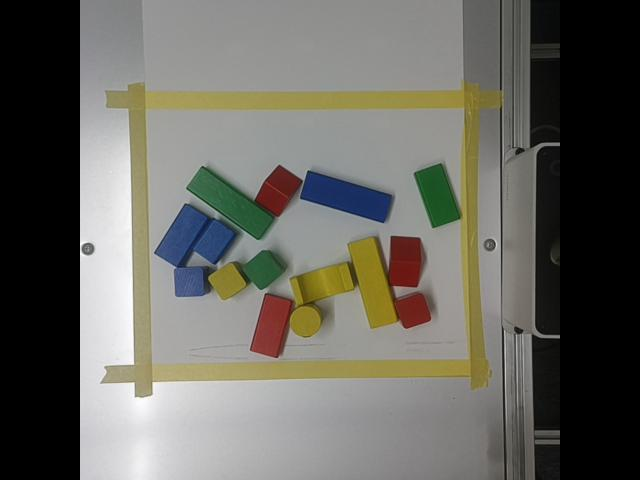blue_cube: (174, 267, 202, 296)
blue_longrect: (301, 171, 391, 221)
blue_rect: (154, 203, 208, 266)
cylinder: (290, 306, 320, 337)
green_cube: (243, 249, 282, 288)
green_longrect: (187, 167, 273, 238)
green_rect: (415, 162, 460, 226)
half_cylinder: (194, 218, 235, 263)
red_cube: (395, 290, 432, 327)
red_rect: (251, 293, 291, 357)
triangle: (255, 165, 303, 215), (389, 236, 420, 286)
yellow_archrect: (289, 261, 355, 305)
yellow_cube: (208, 261, 247, 299)
yellow_longrect: (347, 235, 398, 328)
